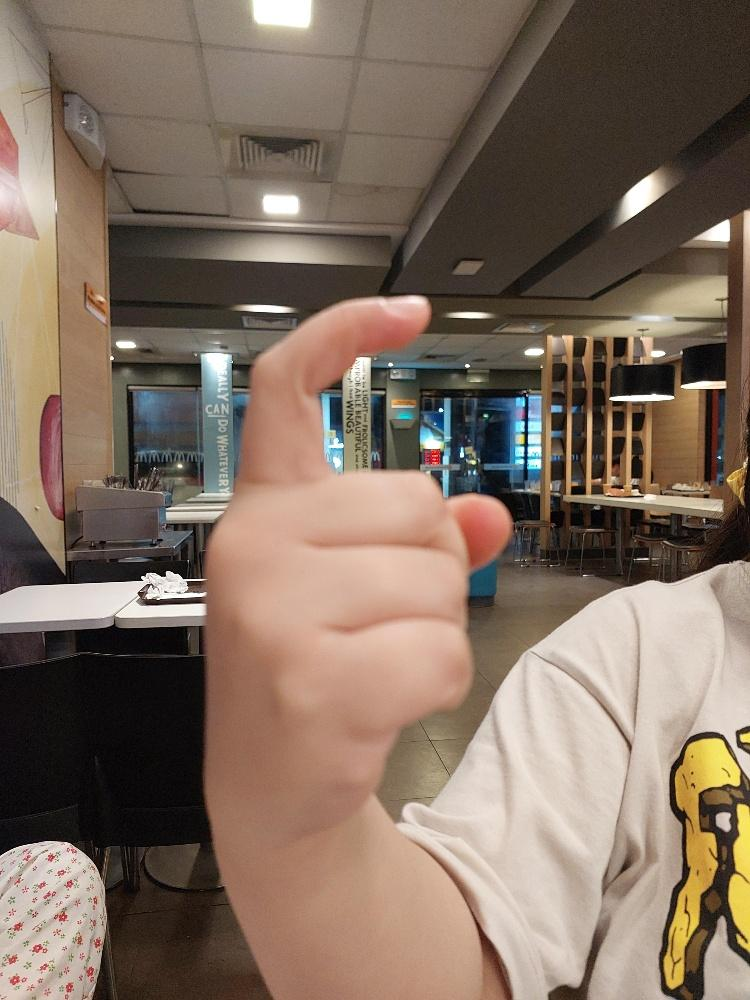x: (200, 290, 513, 830)
